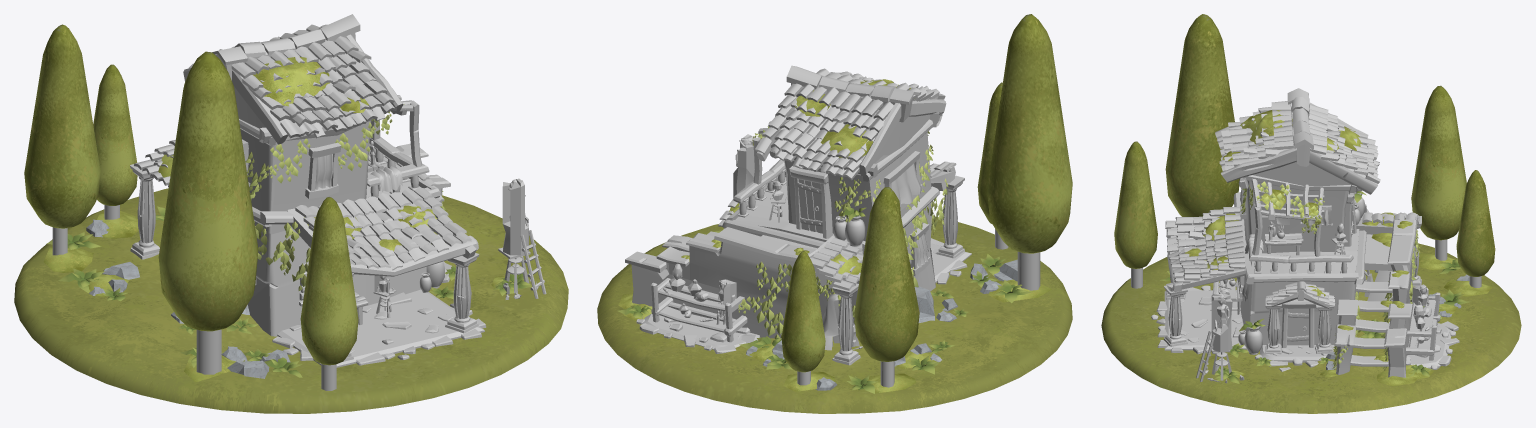
Rendered from GreekSculptor.fbx.
The picture shows the model from 3 angles, left to right: view 1: azimuth 30°, elevation 25°; view 2: azimuth 150°, elevation 25°; view 3: azimuth 270°, elevation 25°; orthographic projection. The views are drawn at different scales.
Visible parts, largest first — view 1: ambientLight4; view 2: ambientLight4; view 3: ambientLight4.
Boxes of the visible parts, x1,y1,x2,y2 form: ambientLight4: (14,14,568,413); ambientLight4: (597,14,1072,413); ambientLight4: (1101,14,1521,413).
Size of the model in its own units: 63.9 by 42.41 by 63.9.
